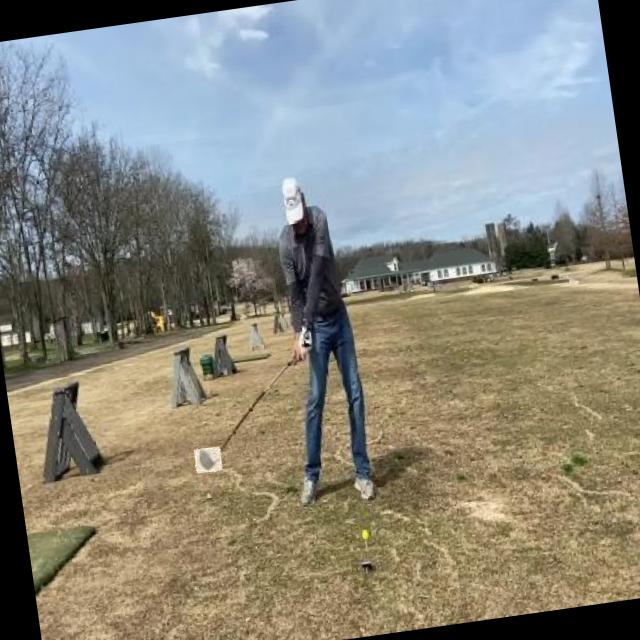club head: (194, 446, 223, 474)
